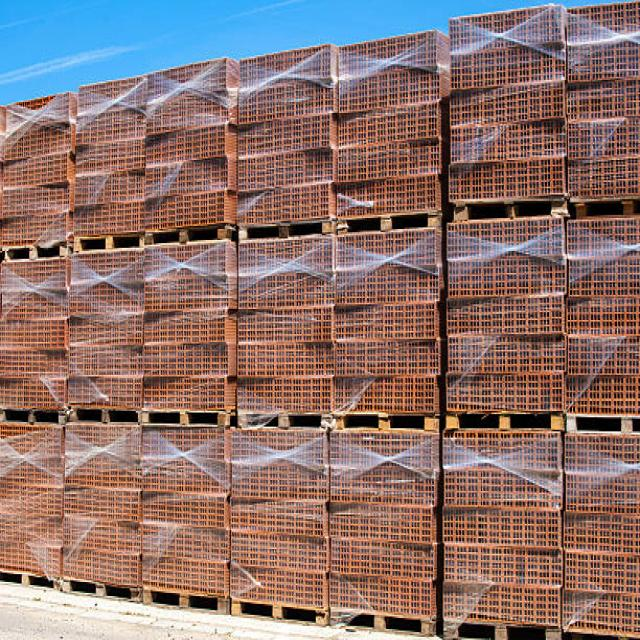Wooden-Pallets: (331, 600, 435, 640), (446, 192, 566, 225), (446, 406, 563, 438), (144, 575, 229, 619), (54, 565, 142, 606), (333, 405, 438, 438), (231, 590, 329, 624), (234, 405, 332, 432), (62, 401, 142, 432), (138, 404, 232, 429), (238, 220, 336, 242), (0, 235, 69, 262), (146, 224, 232, 244), (333, 217, 441, 232), (74, 231, 148, 252)
